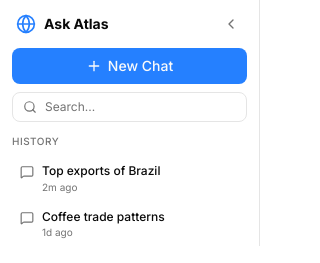
Scenario: LeftSidebar - expanded › search input filters conversations by title
The width and height of the screenshot is (320, 263).
In the field with placeholder "Search...": (140, 107) [45,99,236,115], type "coffee"
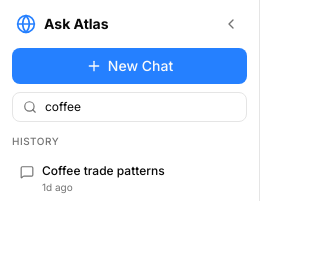
Expected: the text "Coffee trade patterns" is shown, [42,163,165,178]
Now the link "Top exports of Brazil" is gone
